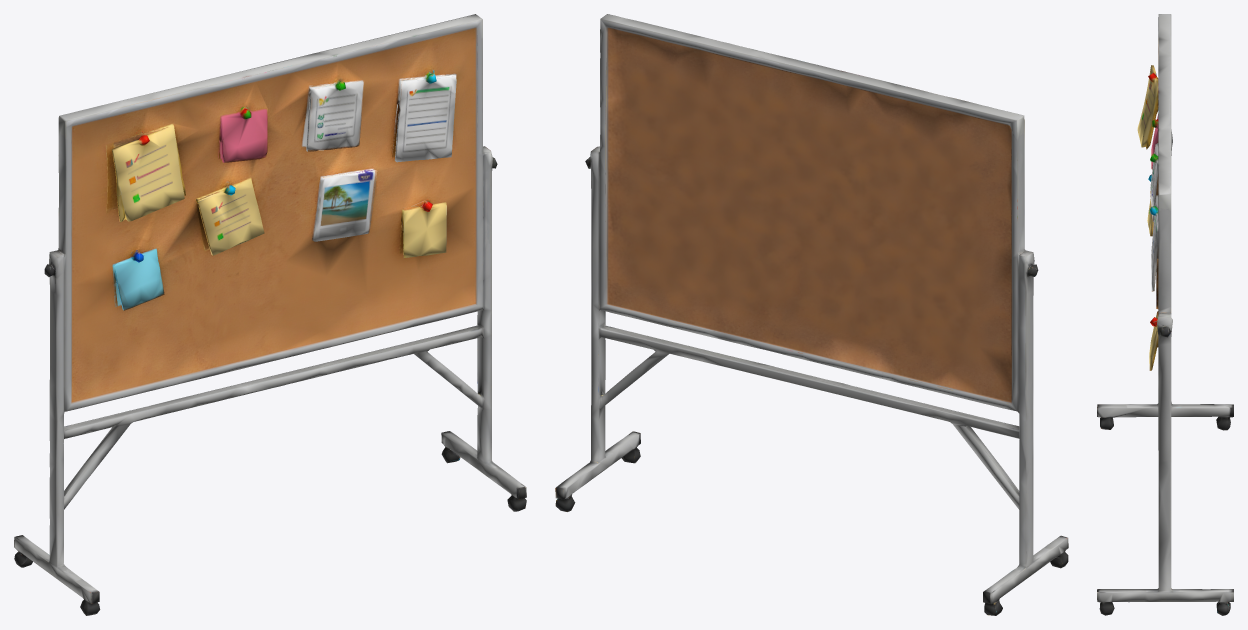
Rendered from Meshy_AI_pano_0114133211_texture.fbx.
3 renders of one model, left to right at view 1: azimuth 30°, elevation 25°; view 2: azimuth 150°, elevation 25°; view 3: azimuth 270°, elevation 25°, orthographic. The views are drawn at different scales.
Visible parts, largest first — view 1: Mesh_0; view 2: Mesh_0; view 3: Mesh_0.
Boxes of the visible parts, bbox=[...] form: Mesh_0: bbox=[14, 14, 526, 615]; Mesh_0: bbox=[555, 14, 1068, 615]; Mesh_0: bbox=[1097, 14, 1233, 615].
Bounding box in the file's own units: 191 × 191 × 56.78.
1 material, 1 textured.
